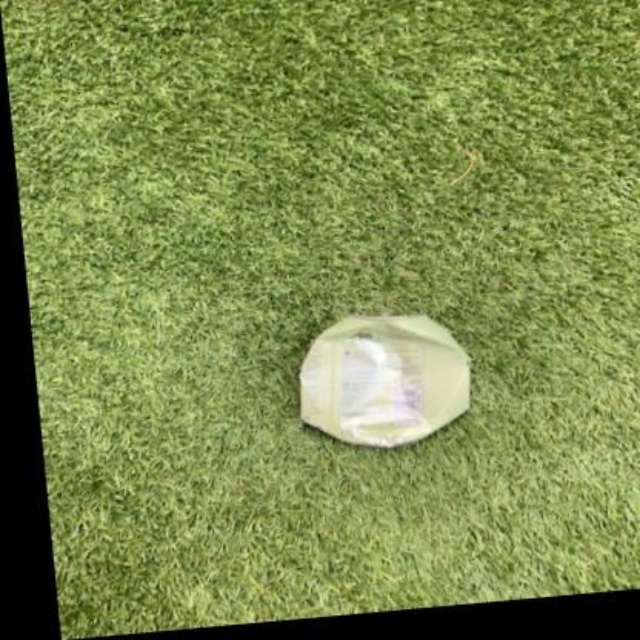trash: (300, 315, 468, 446)
